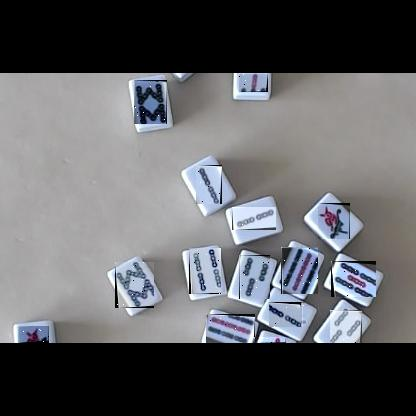1s: (318, 203, 350, 239), (18, 326, 49, 343)
2s: (196, 165, 222, 204), (232, 207, 276, 230), (270, 302, 306, 327)
3s: (239, 255, 270, 299), (330, 310, 362, 343)
4s: (189, 248, 221, 294)
5s: (331, 261, 376, 297)
7s: (239, 73, 268, 92), (254, 337, 286, 343)
8s: (115, 262, 154, 308), (134, 80, 167, 124)
9s: (281, 247, 318, 294), (206, 314, 255, 343)
